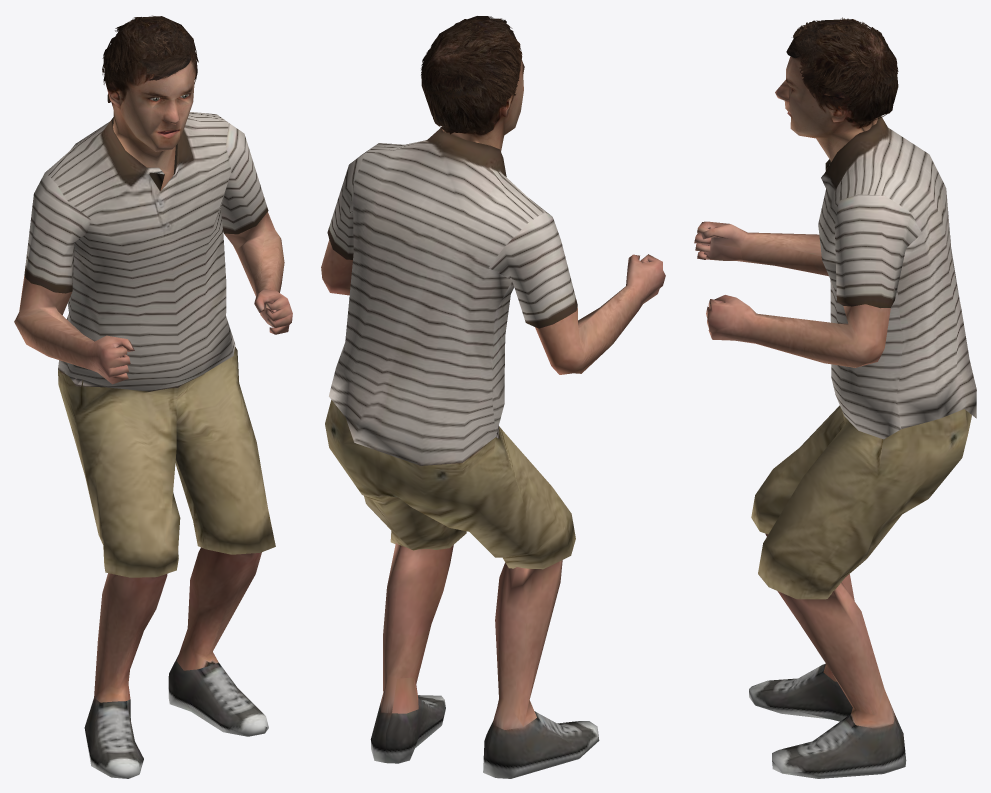
The model's file is Male_Adult_01_cheer.glb.
3 views of the same model, side by side, from view 1: azimuth 30°, elevation 25°; view 2: azimuth 150°, elevation 25°; view 3: azimuth 270°, elevation 25° (orthographic). The views are drawn at different scales.
Visible parts, largest first — view 1: m002_hipoly_81_bones_opacity_b; view 2: m002_hipoly_81_bones_opacity_b; view 3: m002_hipoly_81_bones_opacity_b.
Part boxes in pixels (x1,y1,x2,y2): m002_hipoly_81_bones_opacity_b: (14,15,292,778); m002_hipoly_81_bones_opacity_b: (321,16,665,778); m002_hipoly_81_bones_opacity_b: (694,17,976,778).
Size of the model in its own units: 0.6412 by 1.68 by 0.6002.
Materials: 3 (3 with a texture image).
